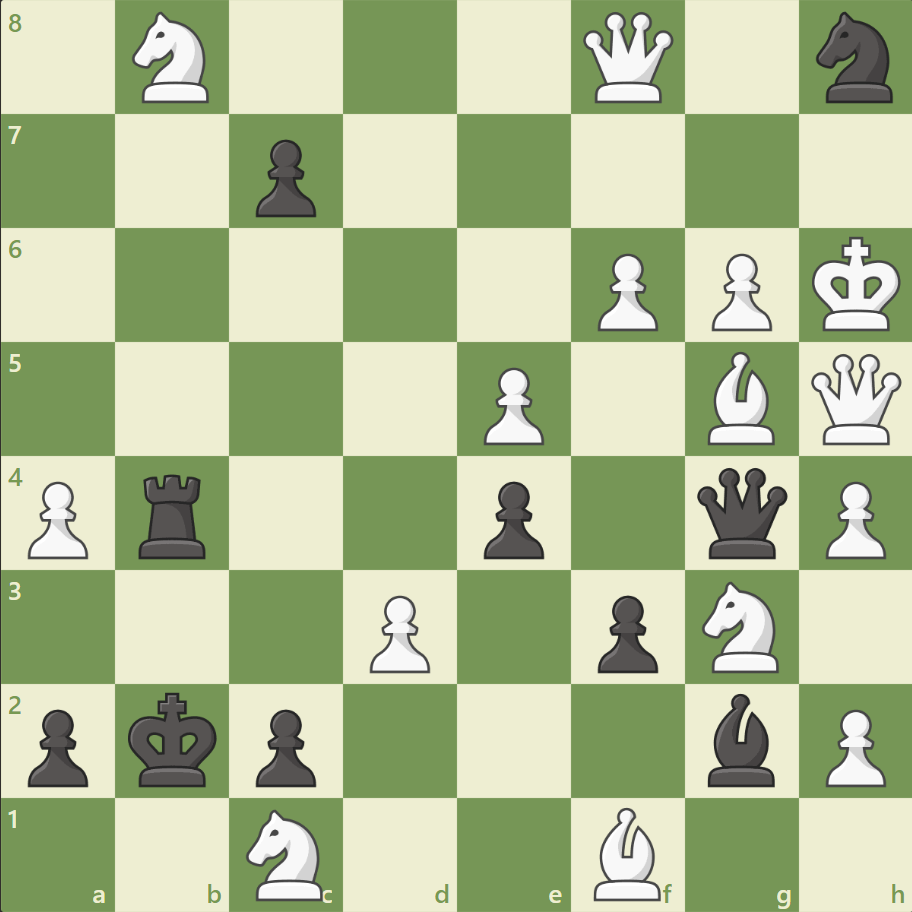B: (585, 801, 669, 904), (698, 347, 782, 449)
K: (806, 231, 906, 339)
N: (124, 7, 222, 110), (692, 575, 789, 677), (238, 802, 335, 904)
P: (701, 246, 776, 337), (474, 359, 549, 450), (20, 473, 95, 564), (588, 246, 662, 337), (815, 473, 889, 564), (361, 586, 435, 677), (815, 700, 889, 791)
Q: (805, 349, 904, 449), (578, 9, 677, 108)
b: (698, 687, 782, 790)
k: (124, 685, 224, 793)
n: (806, 7, 903, 110)
p: (247, 132, 322, 223), (474, 473, 549, 564), (20, 700, 95, 791), (247, 700, 322, 791), (588, 586, 662, 677)
q: (691, 463, 790, 562)
r: (133, 466, 215, 563)
